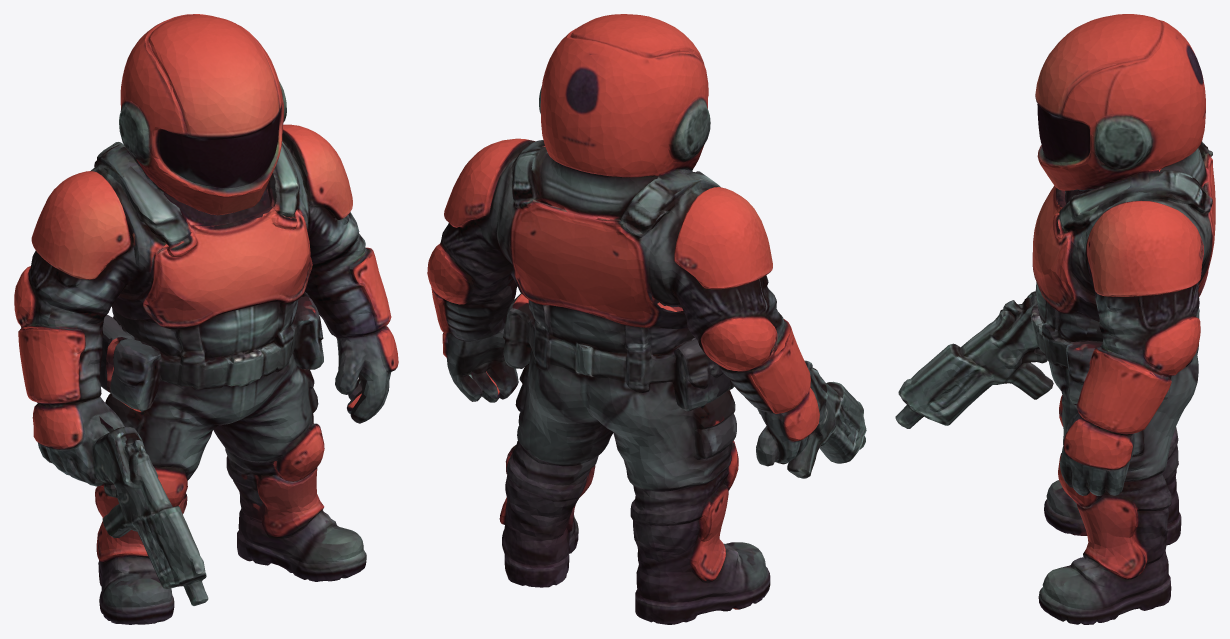
The picture shows the model from 3 angles, left to right: view 1: azimuth 30°, elevation 25°; view 2: azimuth 150°, elevation 25°; view 3: azimuth 270°, elevation 25°; orthographic projection. The views are drawn at different scales.
Parts seen in each view (by area): view 1: figure; view 2: figure; view 3: figure.
Part boxes in pixels (x1,y1,x2,y2): figure: (14,14,398,624); figure: (427,14,866,624); figure: (895,14,1215,624).
Size of the model in its own units: 0.8016 by 1.2 by 0.6466.
Materials: 1 (1 with a texture image).
